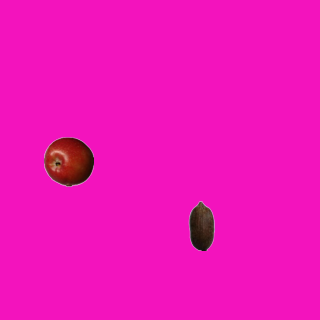Apple Braeburn: (43, 136, 93, 186)
Nut Pecan: (176, 200, 226, 250)
